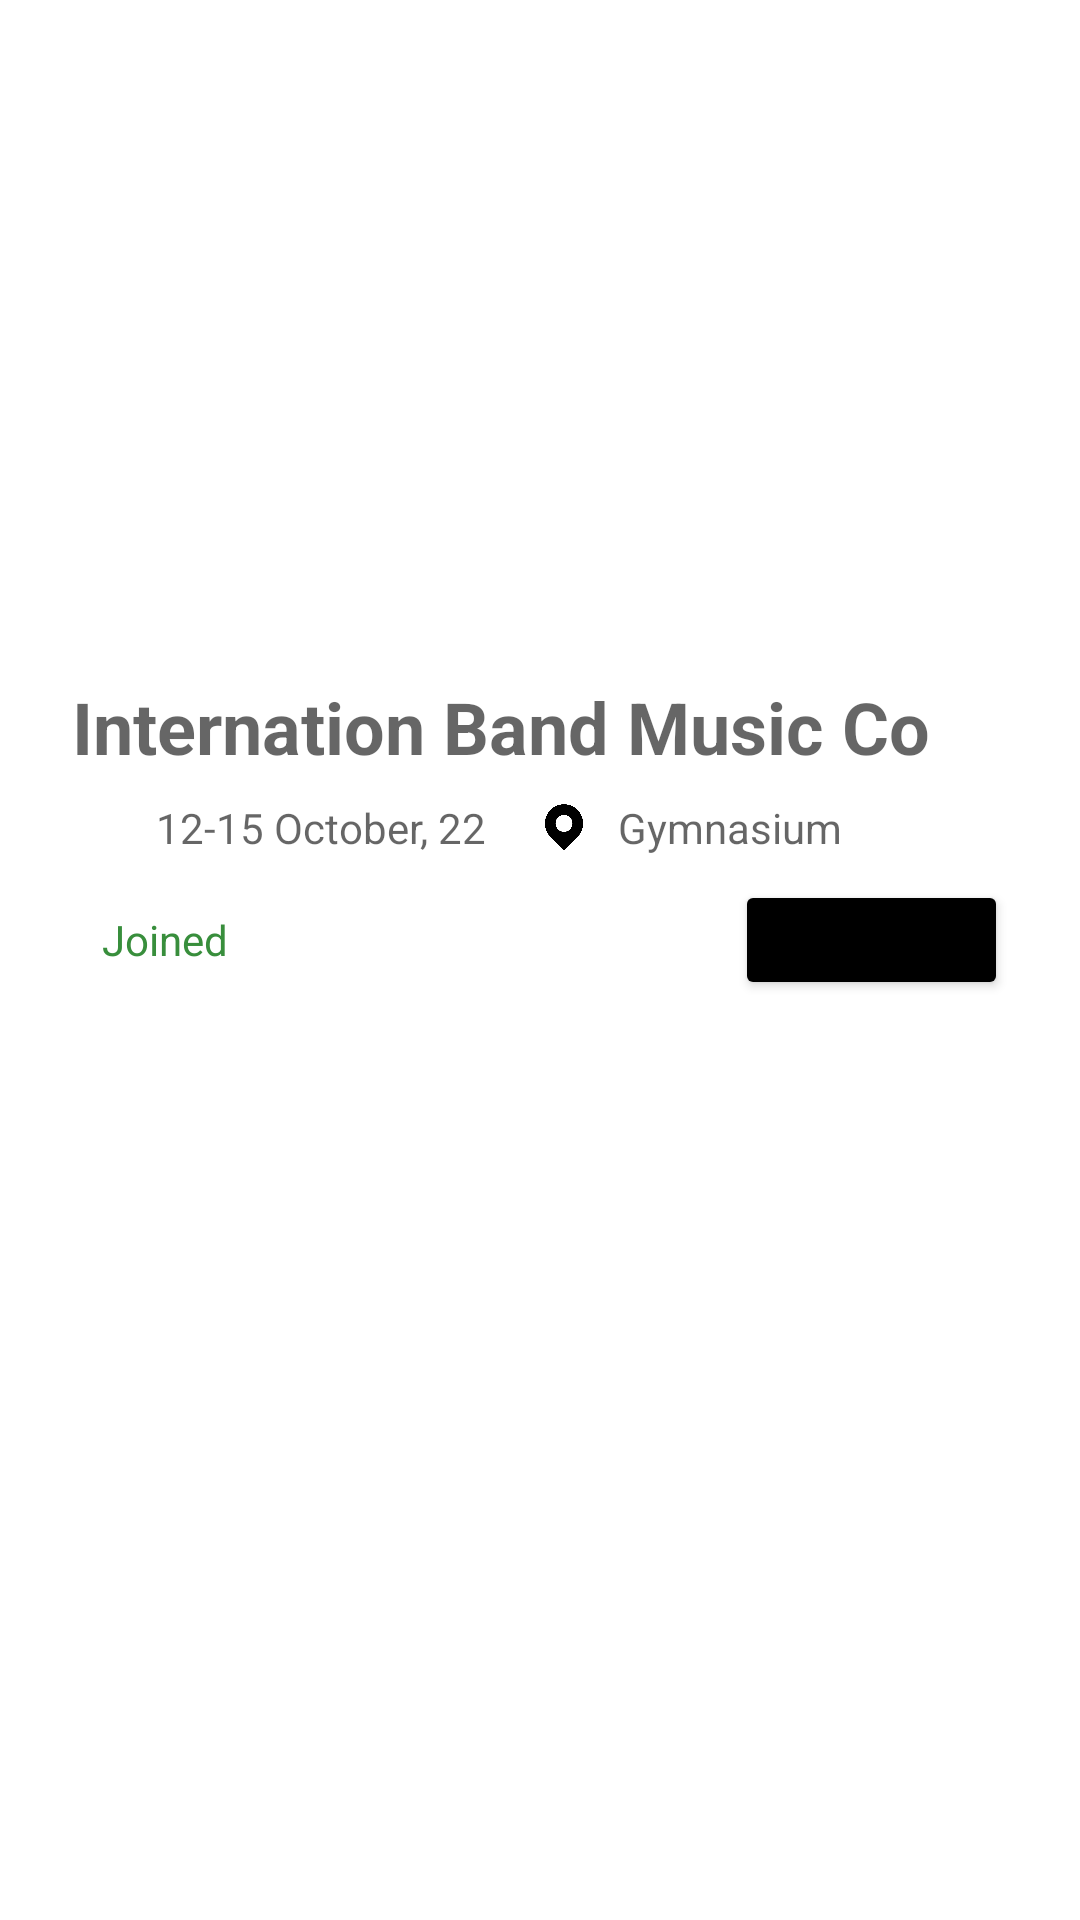

Where icons sit on this 1080px x 1920px app screen, as (x1, y1, x2, y2):
location: (545, 804, 583, 850)
